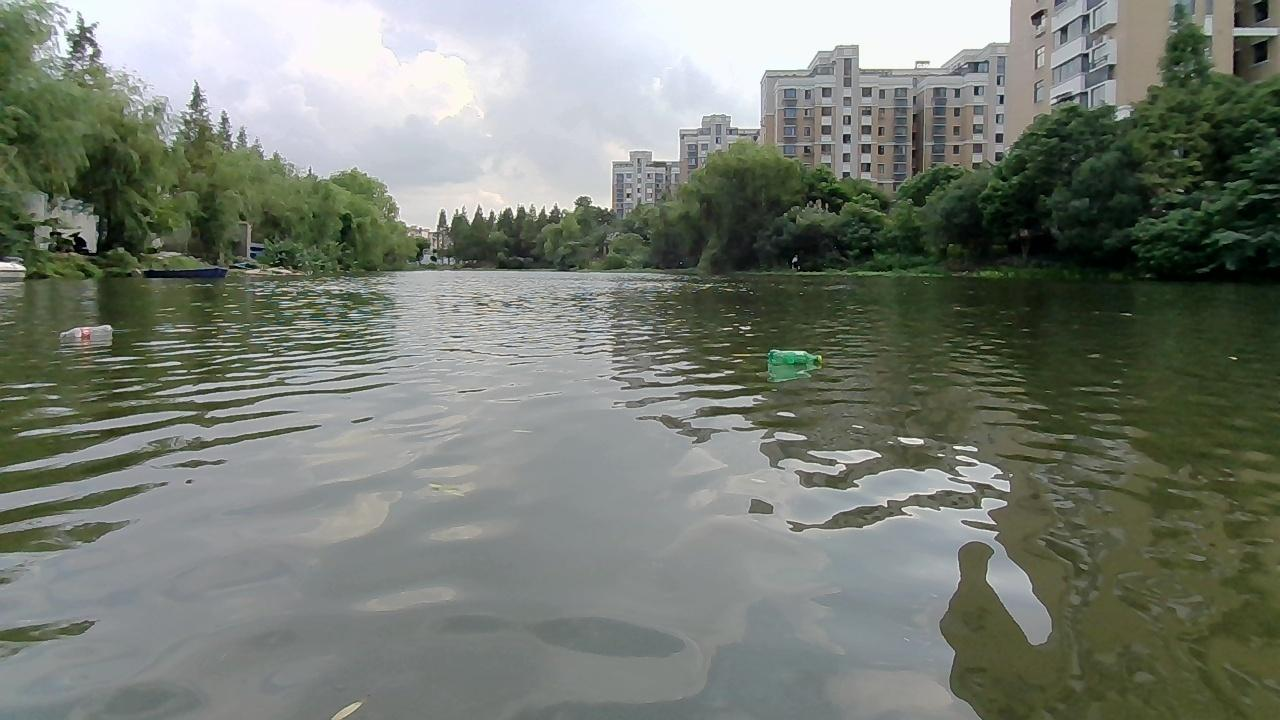bottle: (766, 347, 827, 370), (57, 322, 116, 342)
